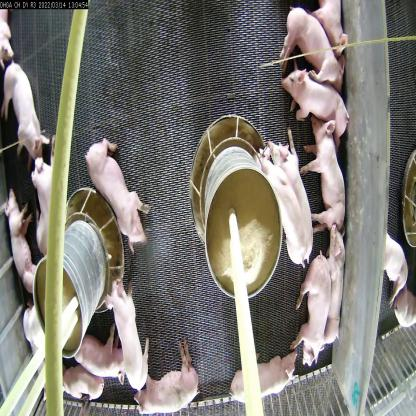Pig: (83, 135, 150, 261), (258, 151, 307, 287), (279, 53, 349, 139), (272, 0, 340, 83), (3, 60, 51, 166), (230, 342, 297, 415), (293, 251, 335, 366), (76, 322, 137, 396), (113, 278, 151, 387), (28, 167, 69, 268), (311, 108, 341, 246), (322, 229, 355, 354), (0, 190, 38, 291), (139, 355, 200, 415), (60, 344, 100, 413), (28, 300, 55, 373)
